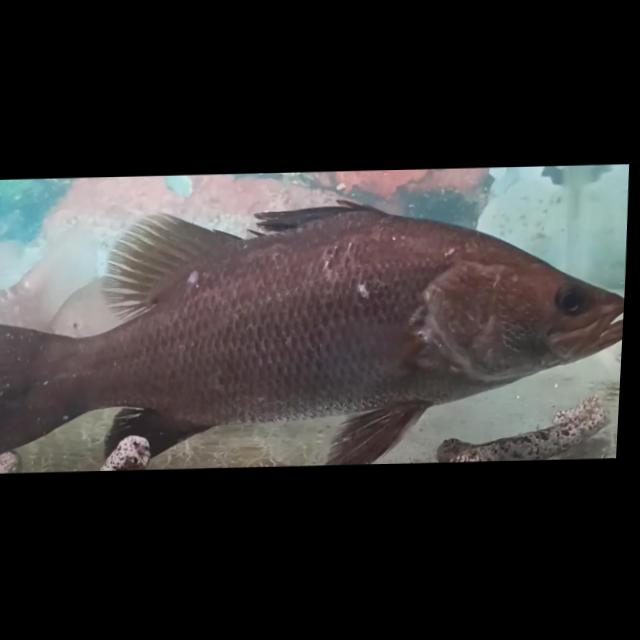Seabass: (0, 196, 630, 473)
